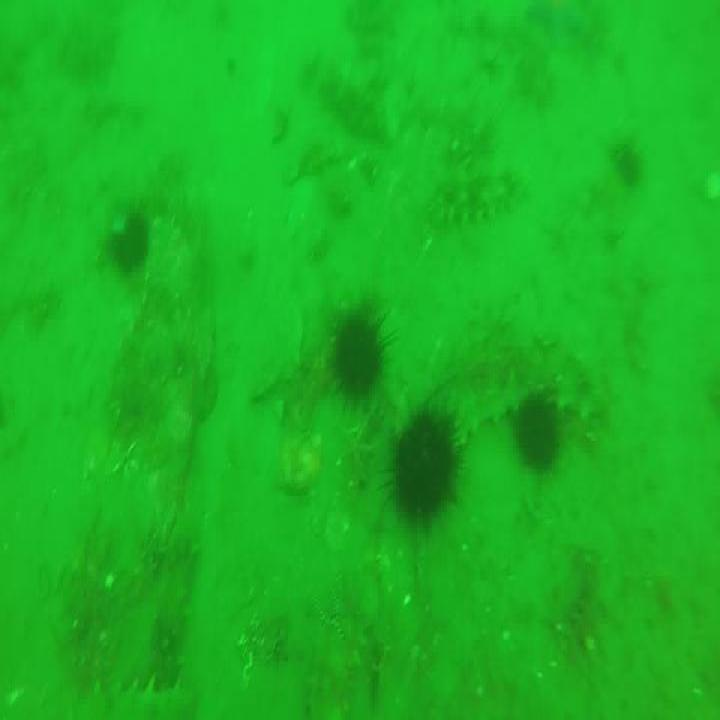echinus: (386, 409, 453, 524), (334, 320, 386, 400), (514, 393, 564, 469), (107, 198, 148, 270), (613, 144, 644, 187)
holothurian: (2, 674, 191, 720), (311, 55, 392, 155), (428, 162, 518, 224)
